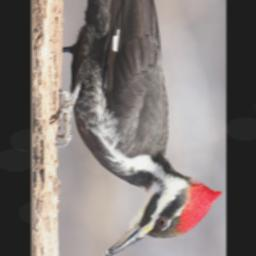Woodpecker: (54, 0, 222, 256)
